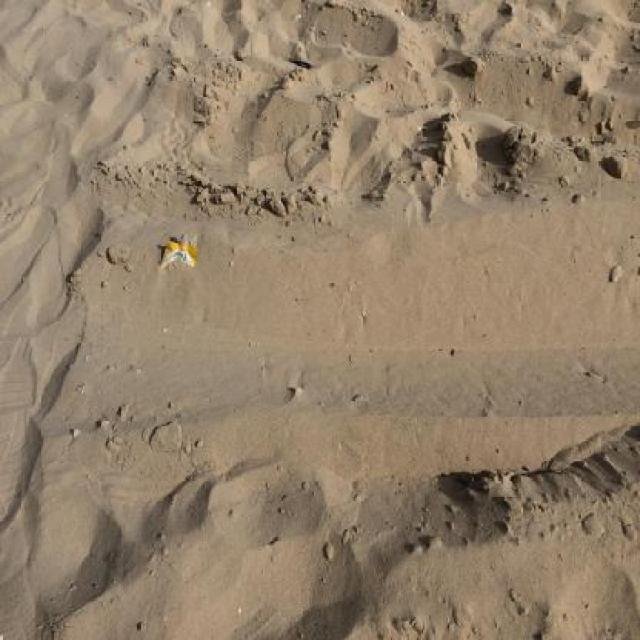plastic: (158, 232, 198, 270)
